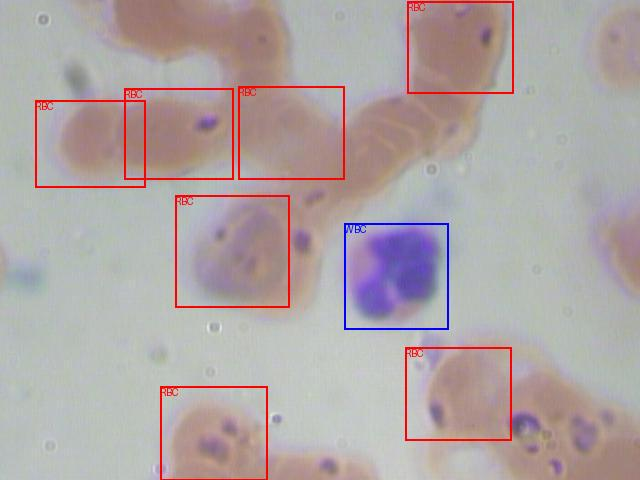RBC: (175, 195, 289, 307), (160, 386, 267, 480), (124, 88, 233, 179), (238, 86, 344, 179), (405, 347, 511, 440), (407, 1, 513, 93), (35, 100, 145, 187)
WBC: (344, 223, 448, 329)
